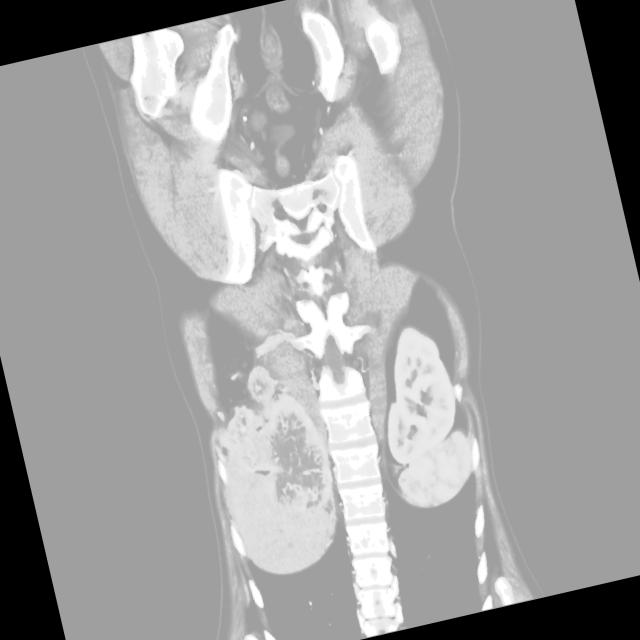TUMOR: (109, 251, 588, 585)
